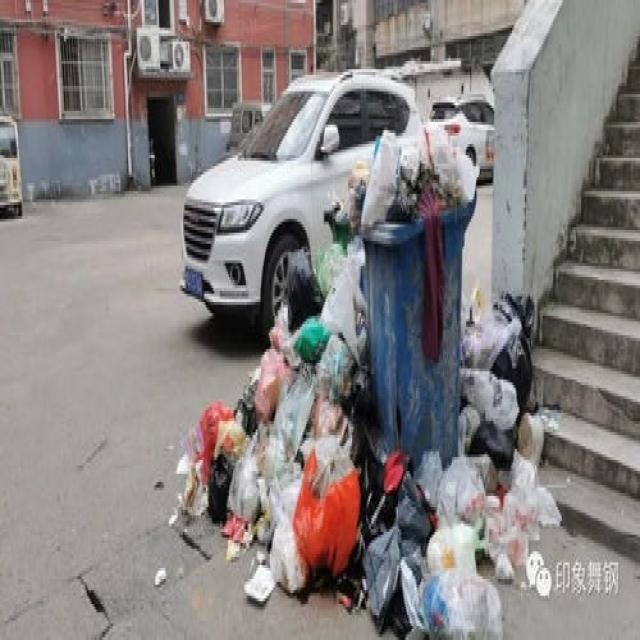garbage: (152, 197, 561, 637)
overflow: (351, 124, 480, 473)
